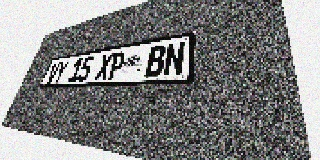1: (67, 58, 85, 82)
5: (77, 56, 95, 81)
B: (144, 44, 167, 77)
N: (162, 41, 186, 76)
P: (106, 51, 127, 80)
V: (45, 62, 61, 83)
X: (94, 53, 114, 80)
Y: (53, 60, 69, 83)
